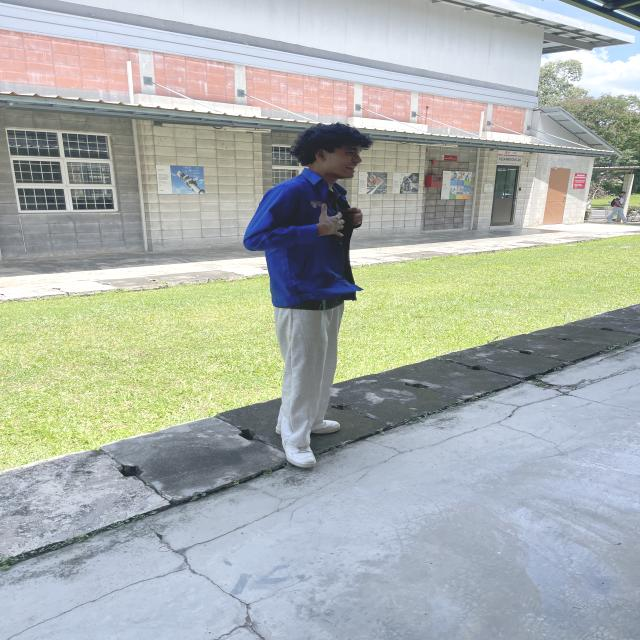person_with_labcoat: (244, 124, 371, 468)
